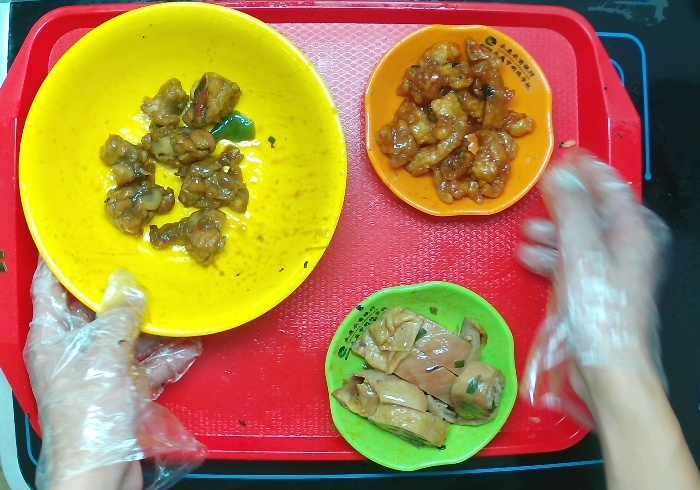YKMZ-Huang_Se_Tang_Wan: (17, 4, 349, 338)
YKMZ-Ju_Se_Ao_Bian_Wan: (363, 22, 552, 219)
YKMZ-Lv_Se_Ao_Bian_Wan: (327, 282, 519, 474)
